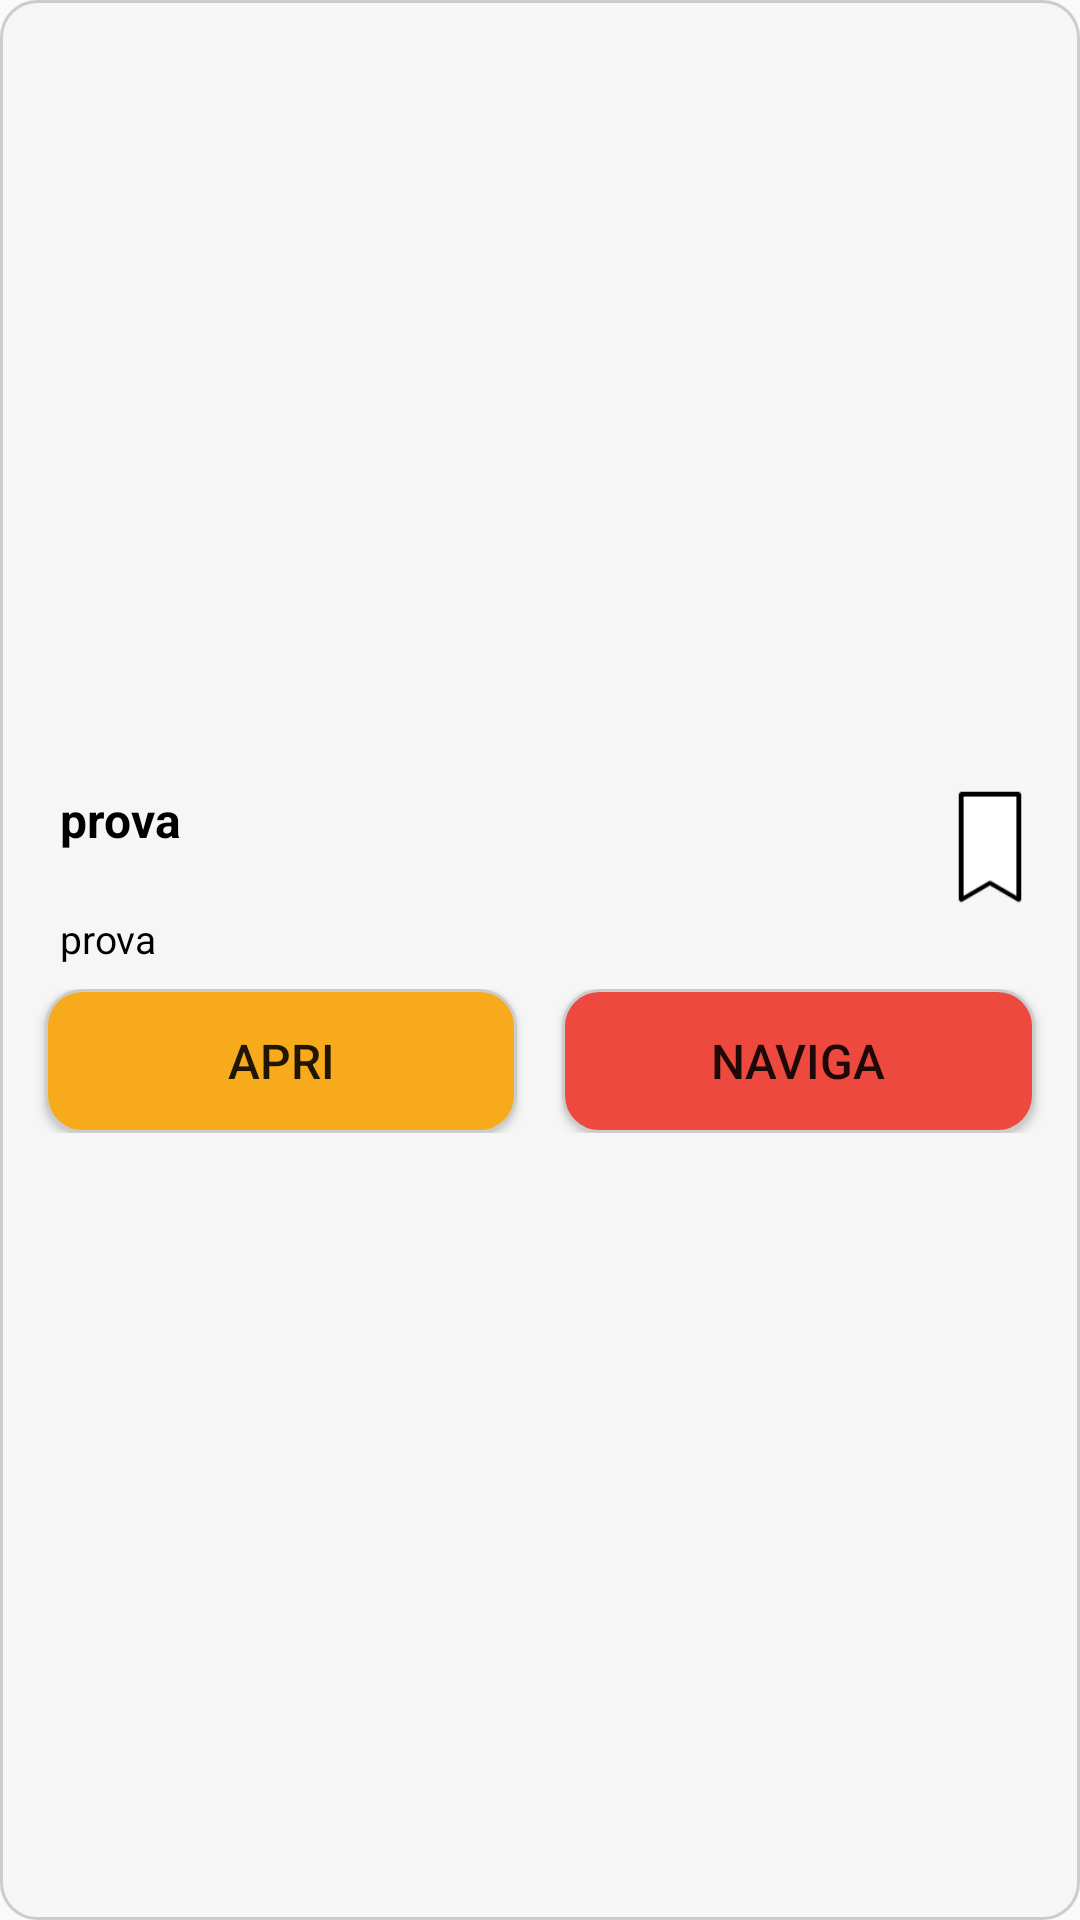

Point at icon controls on the screen. Image size 1080px x 1920px, points as (x,y).
preferiti: (990,847)
